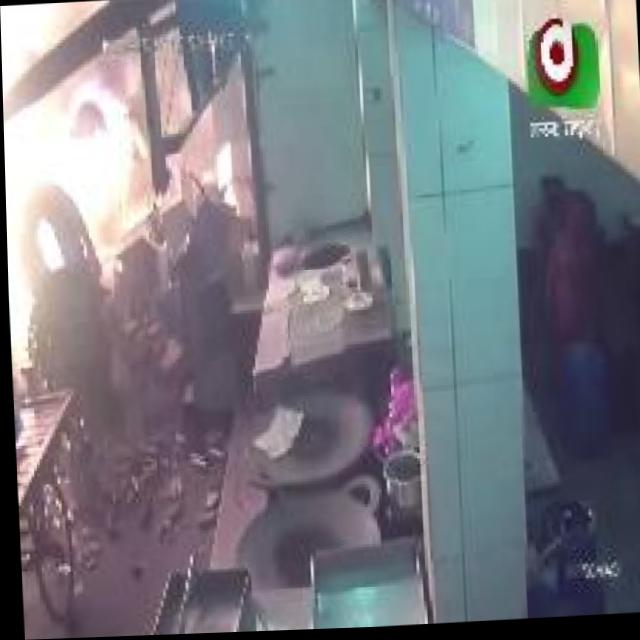fire: (0, 2, 145, 357)
